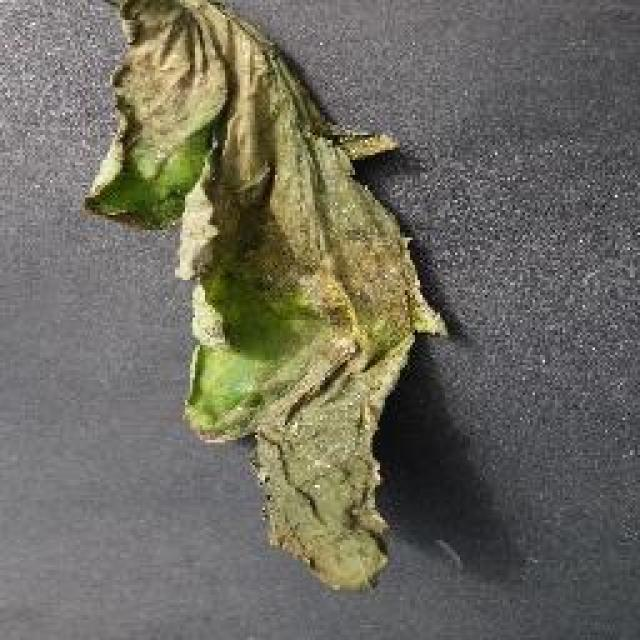Tomato Late Blight: (110, 6, 448, 596)
